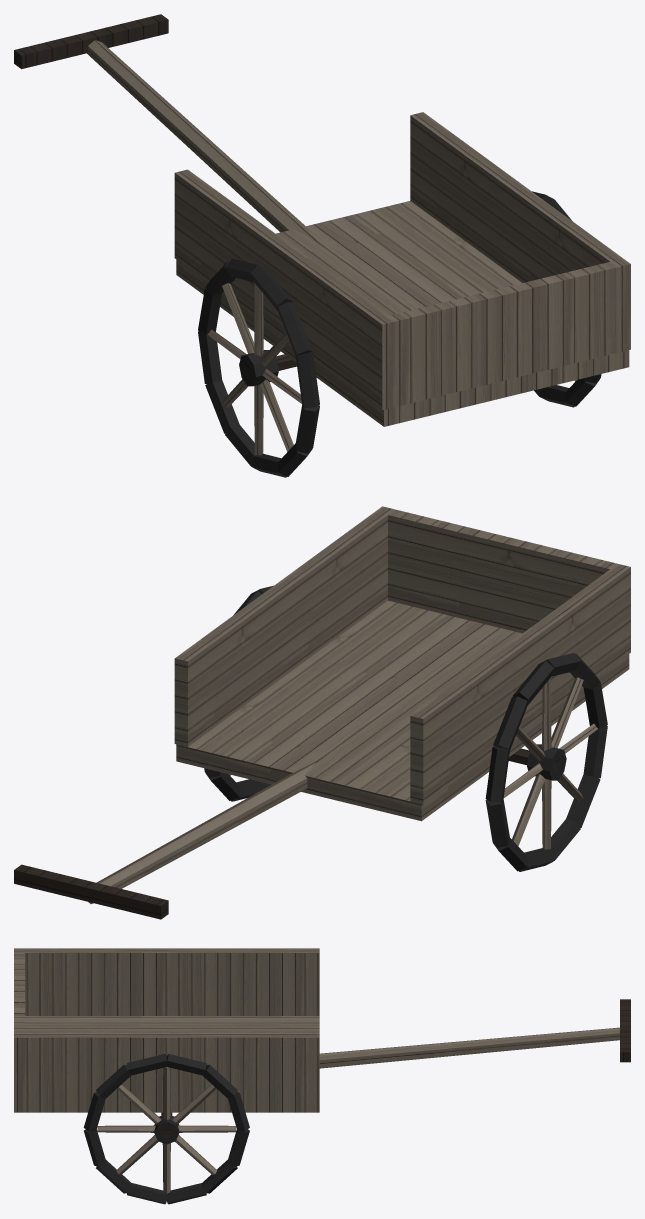
The model's file is ox_cart_01.glb.
3 renders of one model, top to bottom at view 1: azimuth 30°, elevation 25°; view 2: azimuth 150°, elevation 25°; view 3: azimuth 270°, elevation 25°, orthographic. The views are drawn at different scales.
Parts seen in each view (by area): view 1: ox_cart_01; view 2: ox_cart_01; view 3: ox_cart_01.
Part boxes in pixels (box(x1,y1,x2,y2)): ox_cart_01: box(14, 14, 630, 477); ox_cart_01: box(14, 506, 630, 919); ox_cart_01: box(14, 948, 630, 1204).
Size of the model in its own units: 1.9 by 1.27 by 4.44.
Materials: 3 (3 with a texture image).
